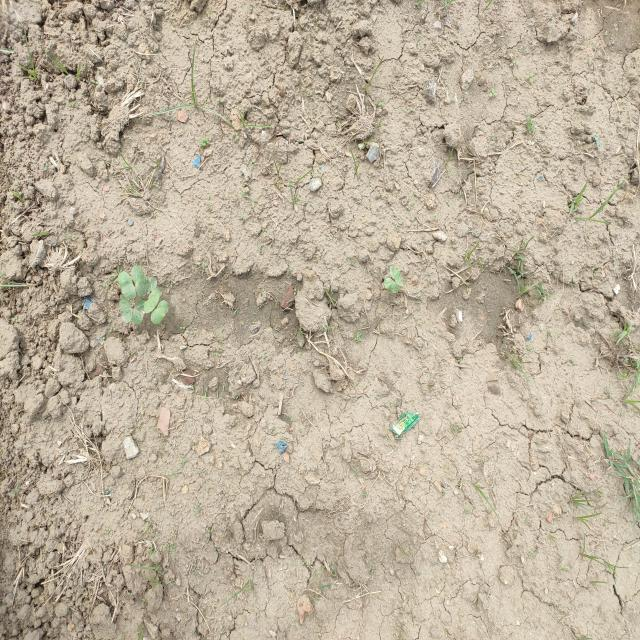seedling: (132, 265, 150, 297), (117, 271, 136, 300), (151, 301, 169, 325), (143, 291, 159, 314), (119, 296, 132, 324), (132, 300, 146, 325), (389, 266, 404, 286), (384, 278, 399, 293), (148, 277, 157, 291)
